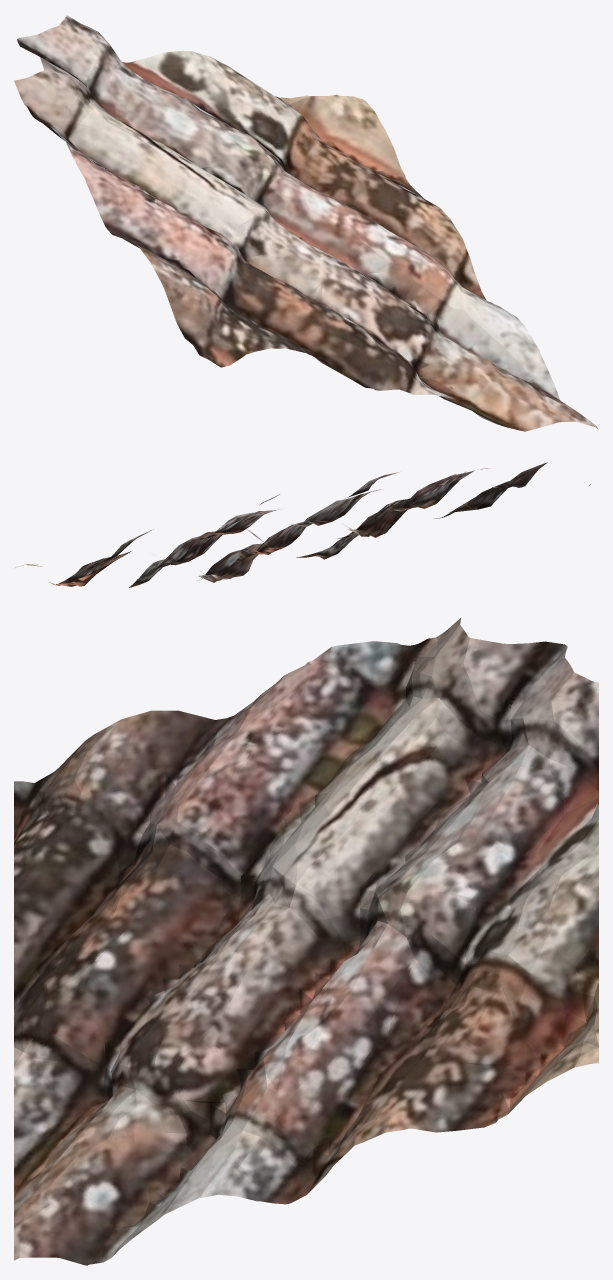
3 renders of one model, top to bottom at view 1: azimuth 30°, elevation 25°; view 2: azimuth 150°, elevation 25°; view 3: azimuth 270°, elevation 25°, orthographic. The views are drawn at different scales.
Bounding box in the file's own units: 0.8374 × 0.6331 × 0.8373.
Materials: 3 (3 with a texture image).
